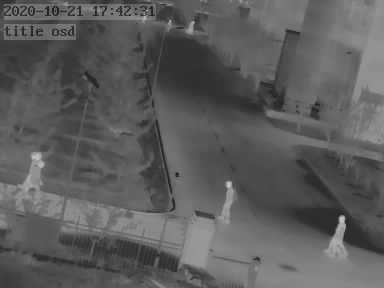person: (19, 150, 43, 194), (327, 213, 348, 256), (219, 178, 236, 223), (186, 16, 195, 33), (166, 18, 172, 30)
